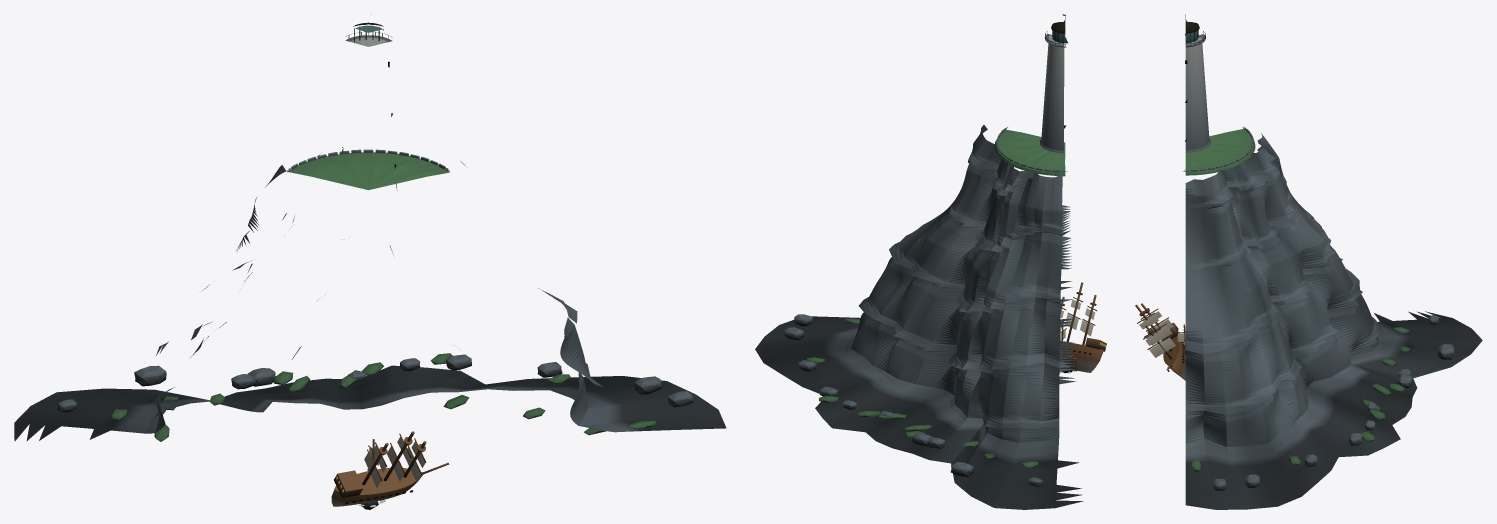
The model's file is coast-s3-D1hTBPQf.glb.
3 views of the same model, side by side, from view 1: azimuth 30°, elevation 25°; view 2: azimuth 150°, elevation 25°; view 3: azimuth 270°, elevation 25° (orthographic). The views are drawn at different scales.
Parts seen in each view (by area): view 1: sc_landmark_0, sc_galleon; view 2: sc_landmark_0, sc_galleon; view 3: sc_landmark_0, sc_galleon.
Boxes of the visible parts, <box> form: sc_landmark_0: <box>14,22,726,441</box>; sc_galleon: <box>331,431,449,506</box>; sc_landmark_0: <box>755,14,1083,509</box>; sc_galleon: <box>1060,282,1106,372</box>; sc_landmark_0: <box>1183,14,1482,509</box>; sc_galleon: <box>1135,303,1185,380</box>.
Bounding box in the file's own units: 375 × 320 × 277.
